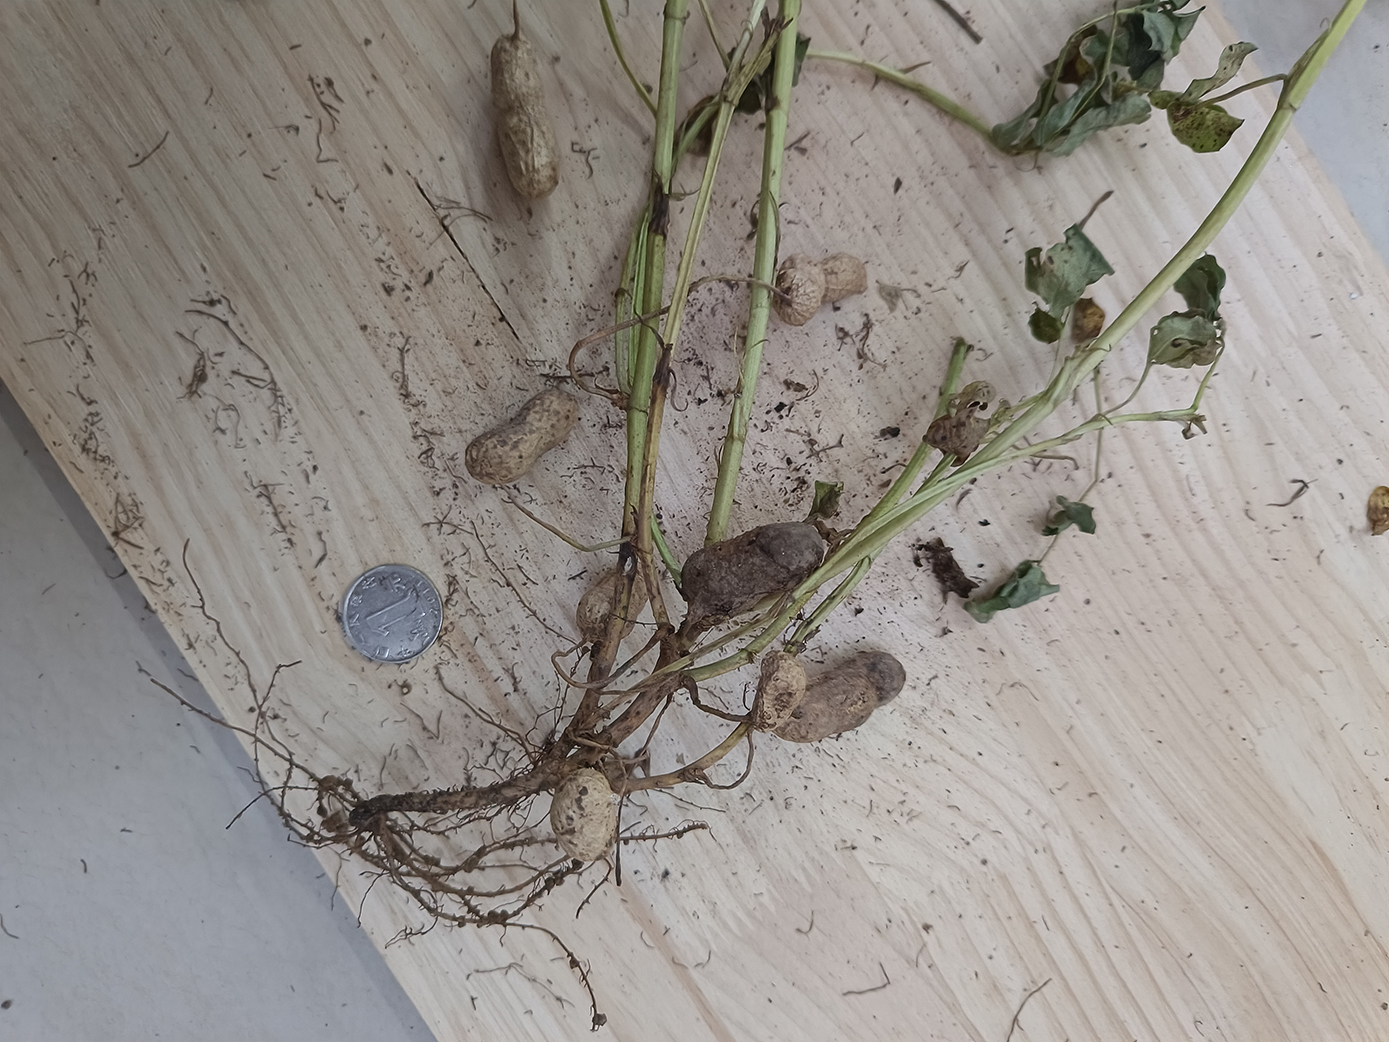h: (489, 34, 559, 198), (462, 387, 577, 486), (777, 253, 869, 326), (551, 768, 611, 862), (574, 567, 646, 639), (754, 651, 805, 730)
l: (680, 521, 823, 605), (805, 647, 907, 743)
